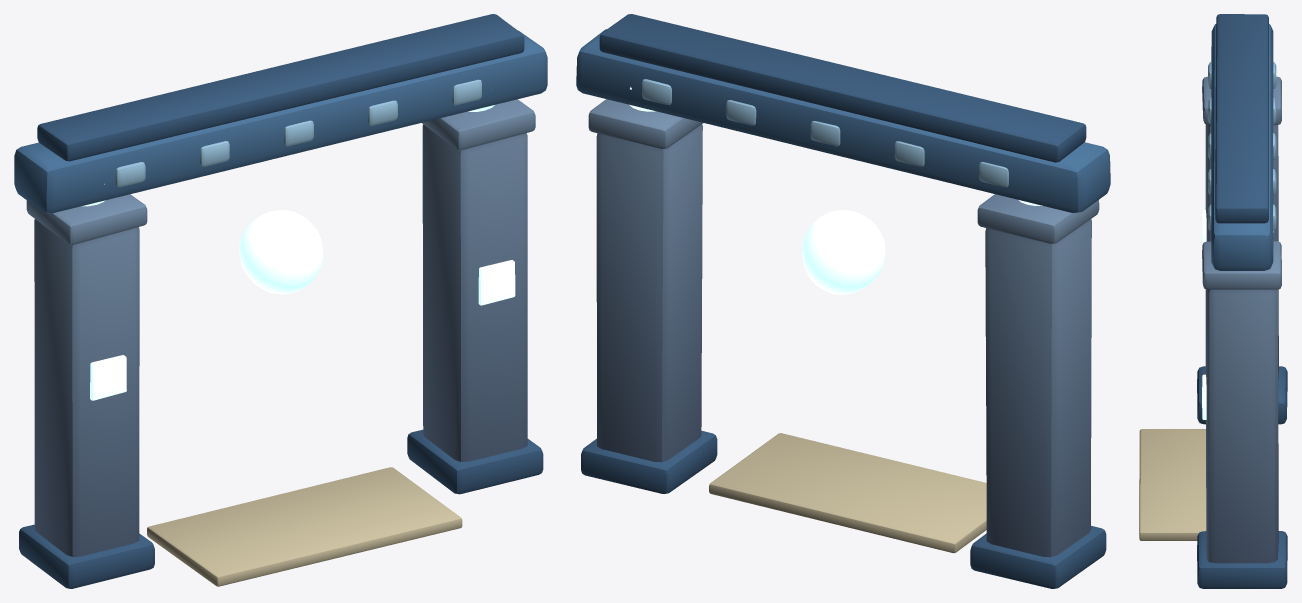
3 views of the same model, side by side, from view 1: azimuth 30°, elevation 25°; view 2: azimuth 150°, elevation 25°; view 3: azimuth 270°, elevation 25° (orthographic). The views are drawn at different scales.
Visible parts, largest first — view 1: gate_6683e8fc; view 2: gate_6683e8fc; view 3: gate_6683e8fc.
Boxes of the visible parts, <box> form: gate_6683e8fc: <box>14,14,547,588</box>; gate_6683e8fc: <box>576,14,1110,588</box>; gate_6683e8fc: <box>1139,14,1287,588</box>.
Size of the model in its own units: 4.94 by 4.08 by 1.44.
